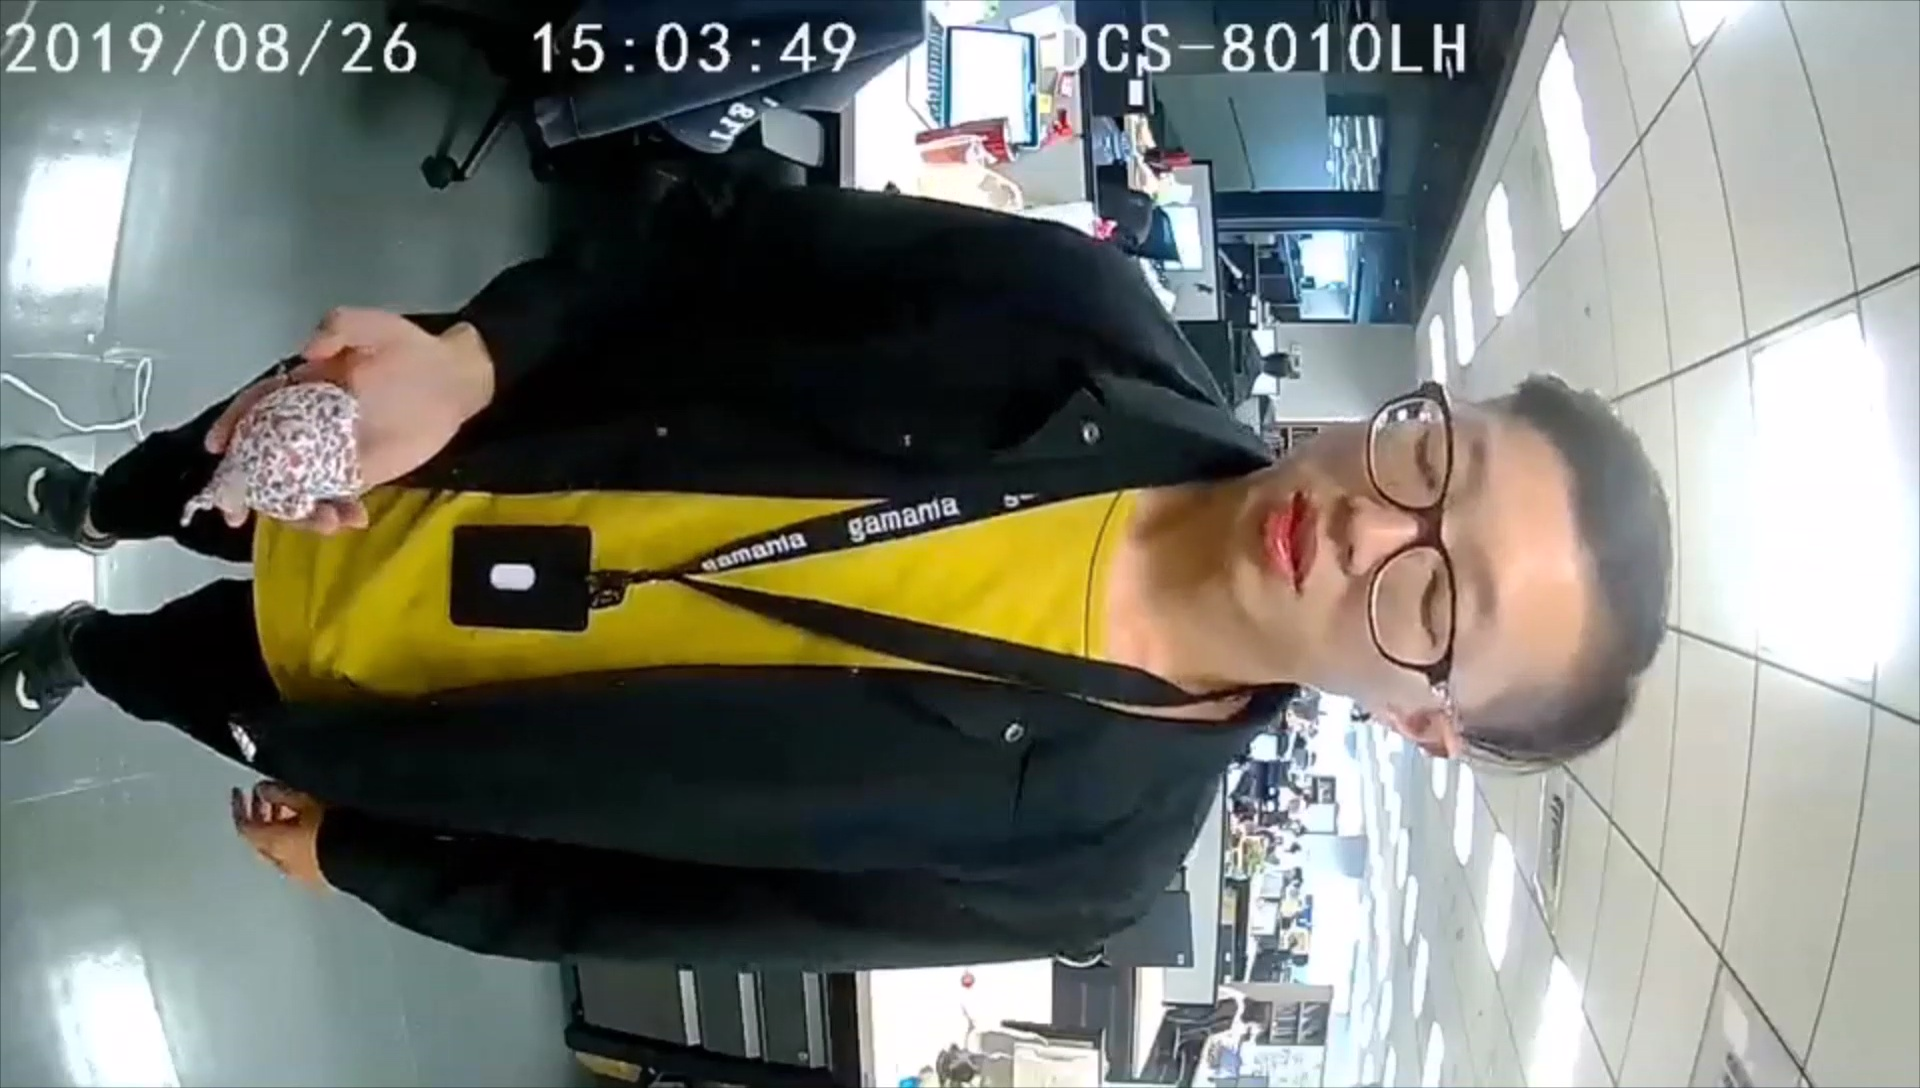pig: (181, 373, 371, 528)
